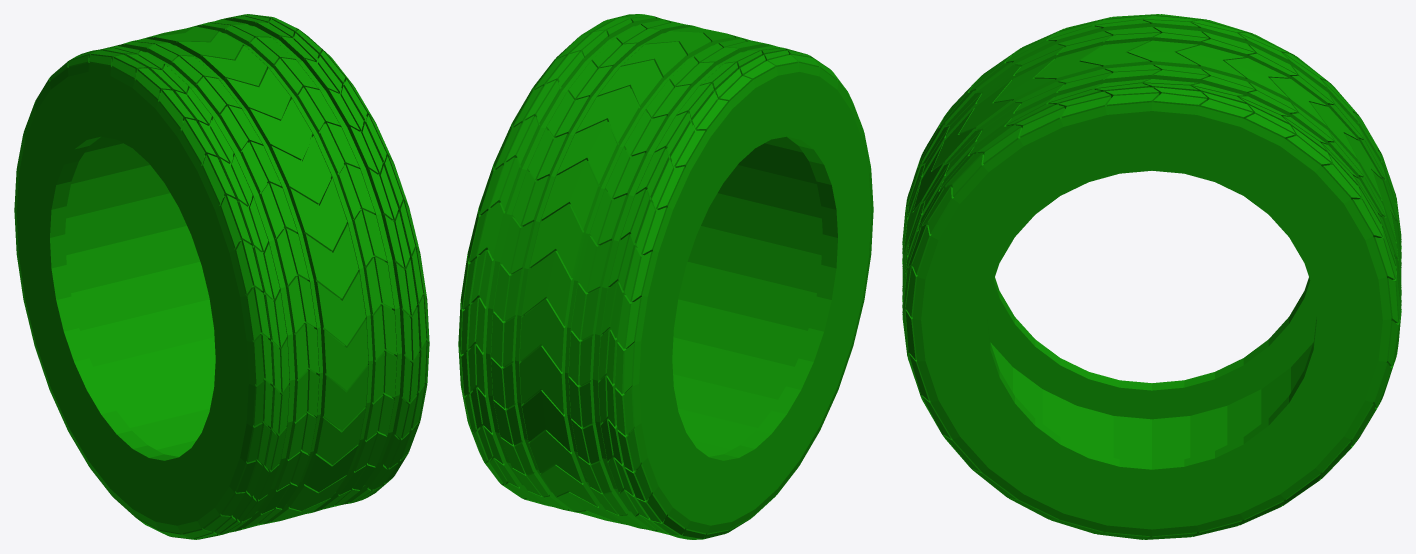
File: Wheel.fbx
The picture shows the model from 3 angles, left to right: view 1: azimuth 30°, elevation 25°; view 2: azimuth 150°, elevation 25°; view 3: azimuth 270°, elevation 25°; orthographic projection.
Parts seen in each view (by area): view 1: Circle; view 2: Circle; view 3: Circle.
Part boxes in pixels (x1,y1,x2,y2): Circle: (14, 14, 429, 539); Circle: (458, 14, 873, 539); Circle: (902, 14, 1401, 539).
Bounding box in the file's own units: 82.04 × 200 × 200.
